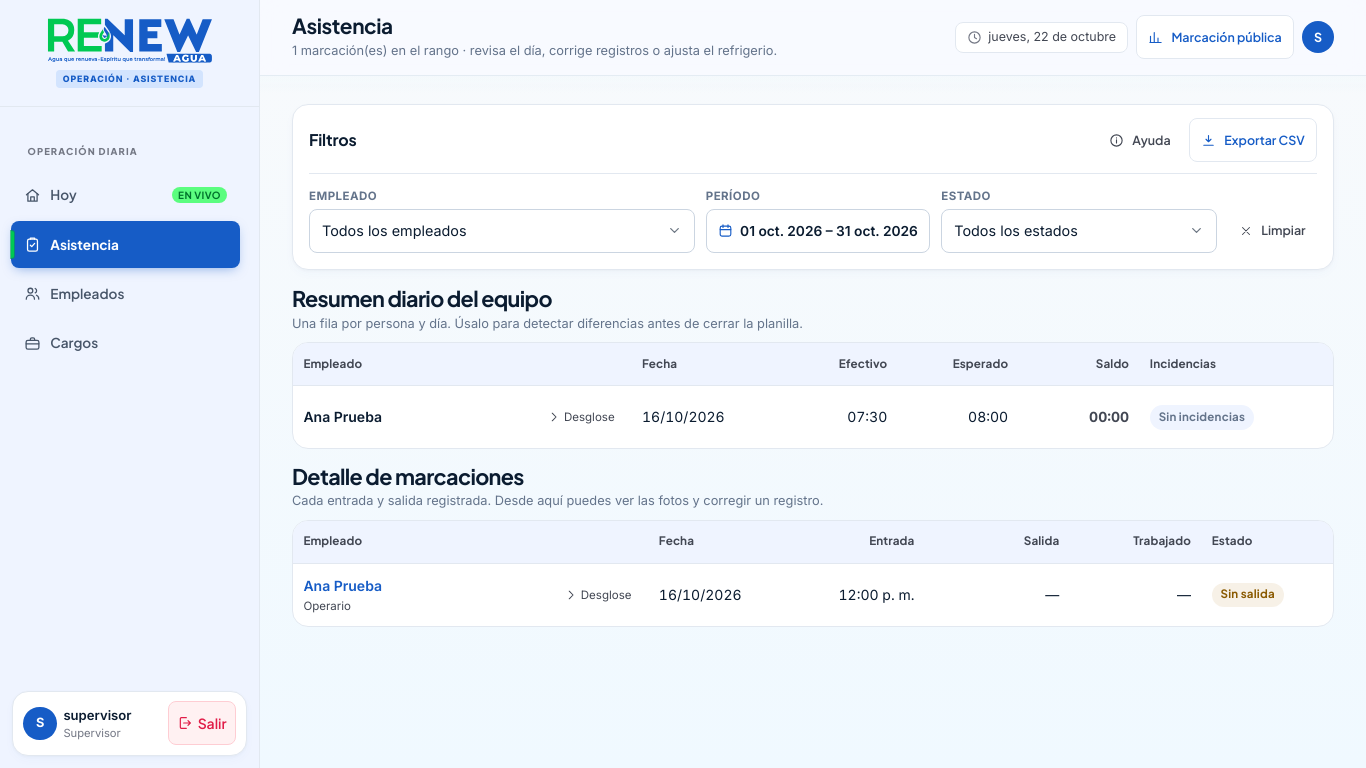
Test: Admin — tablas de asistencia › SUPERVISOR conserva el desglose de solo lectura del resumen diario sin acciones de gestión
Click the button "Desglose" in the row of "07:30": (581, 417) [540,395,621,439]
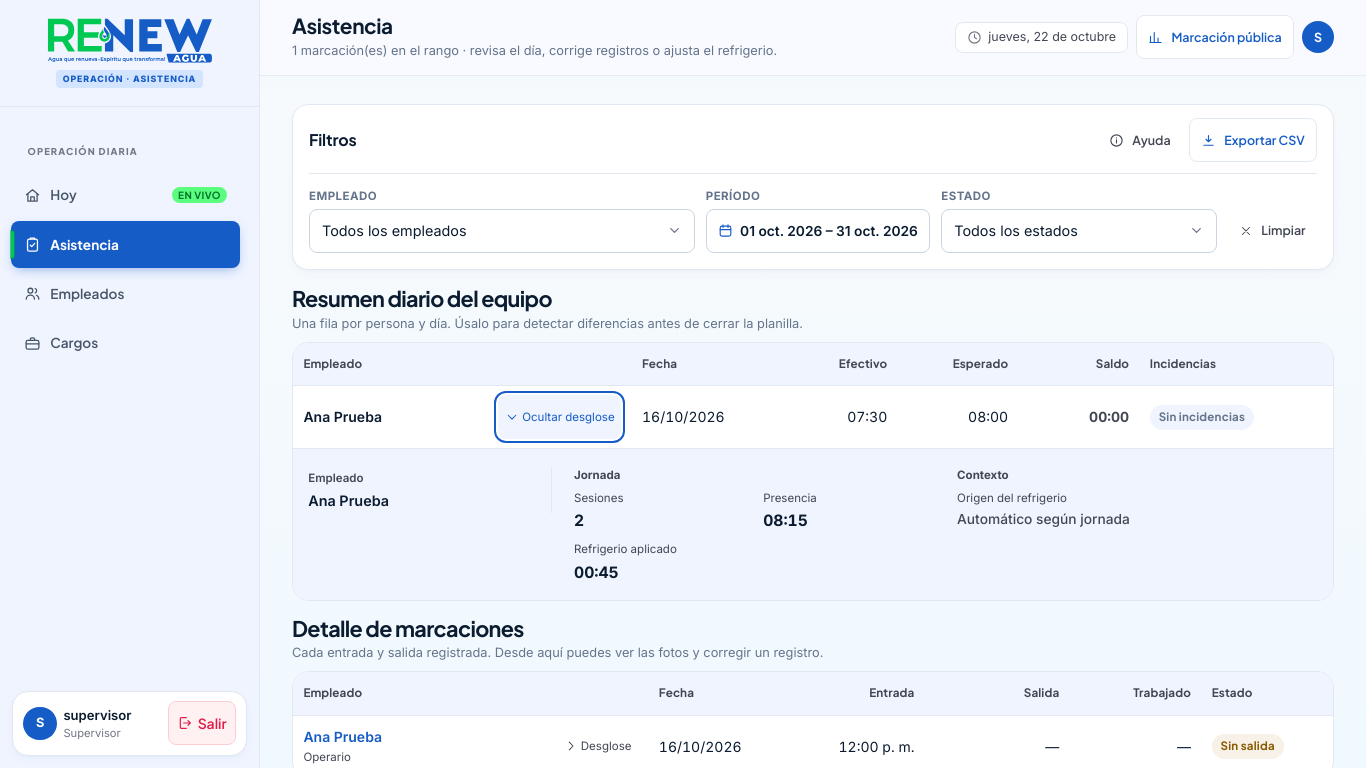
Expected: the 3rd row shows "Sesion", [574,491,624,505]
Expected: the 3rd row shows "Refrigerio", [574,542,677,556]
